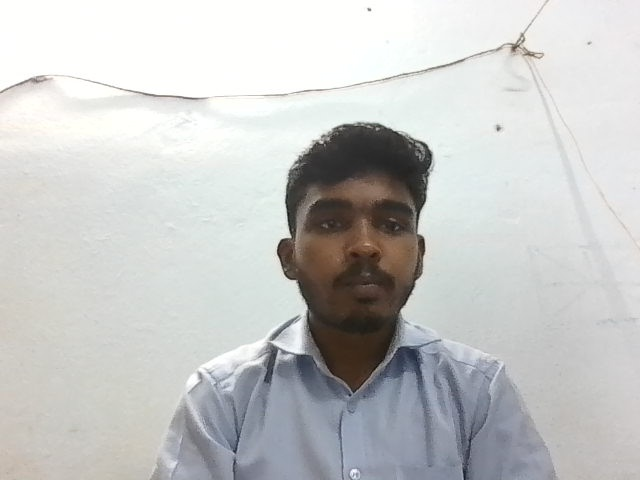real: (275, 109, 441, 345)
